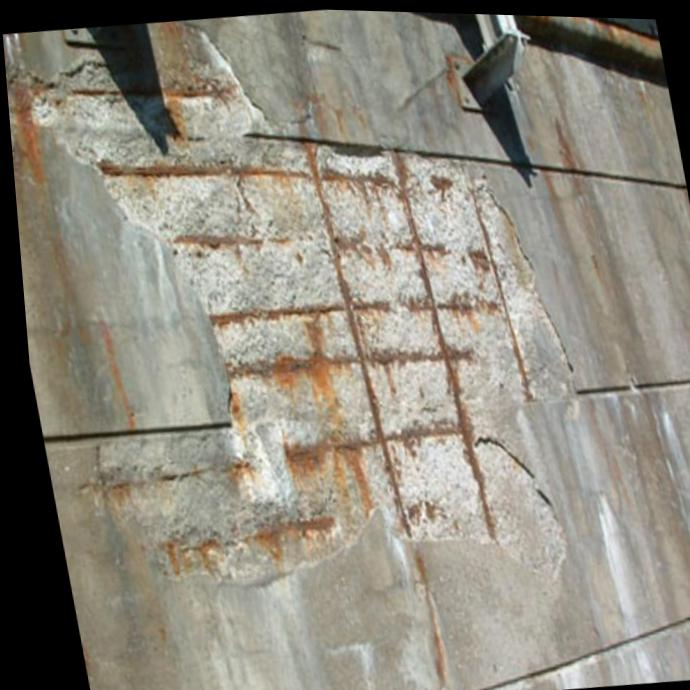damage: (4, 19, 566, 592)
